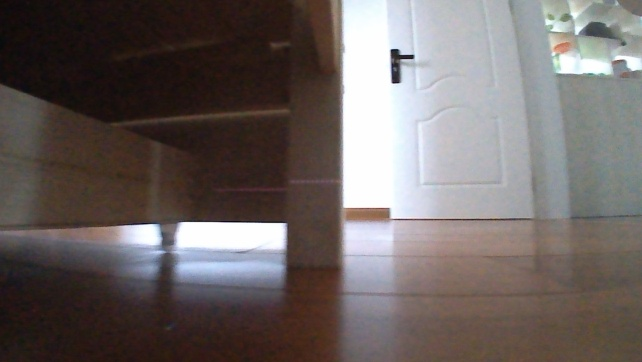door_anno: (381, 0, 545, 224)
